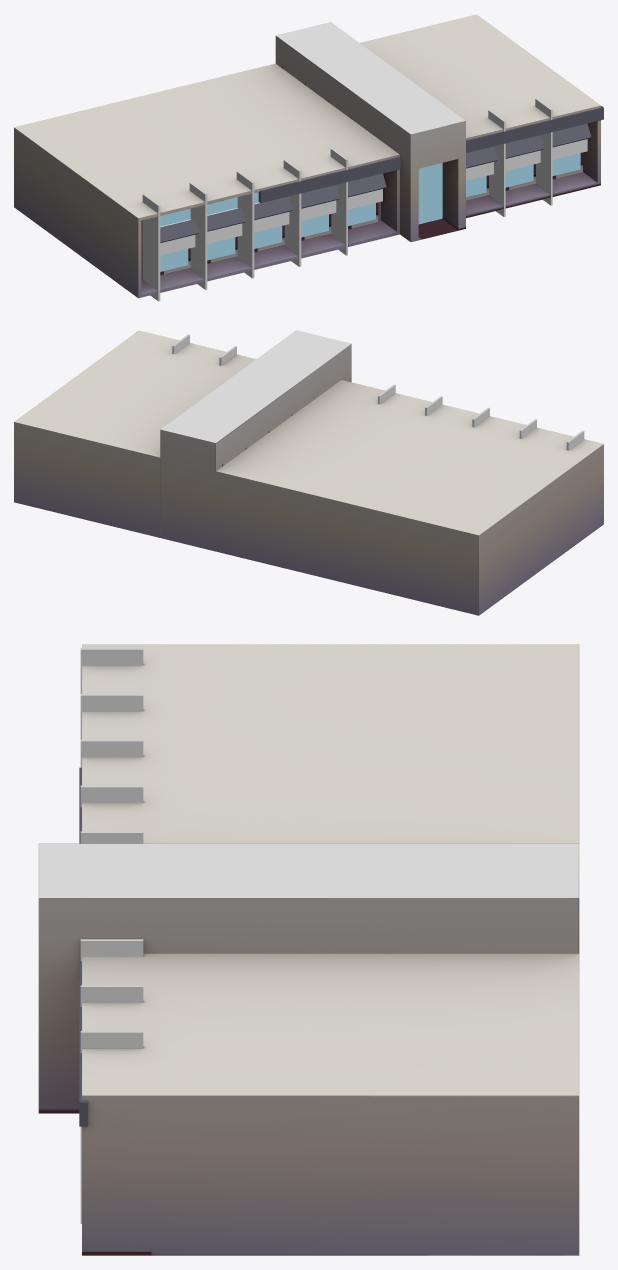
The model's file is EdificioPrincipal.fbx.
3 views of the same model, one above another, from view 1: azimuth 30°, elevation 25°; view 2: azimuth 150°, elevation 25°; view 3: azimuth 270°, elevation 25° (orthographic). The views are drawn at different scales.
Visible parts, largest first — view 1: Cube, Cube.005, Cube.008, Plane.002; view 2: Cube, Cube.005; view 3: Cube, Cube.005, Cube.008, Plane.002.
Boxes of the visible parts, <box> form: Cube: <box>14,14,600,298</box>; Cube.005: <box>142,148,386,301</box>; Cube.008: <box>466,98,590,216</box>; Plane.002: <box>258,106,603,202</box>; Cube: <box>14,330,603,615</box>; Cube.005: <box>378,384,584,450</box>; Cube: <box>38,644,579,1255</box>; Cube.005: <box>80,648,143,843</box>; Cube.008: <box>80,939,143,1223</box>; Plane.002: <box>79,767,87,1126</box>.
Size of the model in its own units: 252 by 60 by 127.
